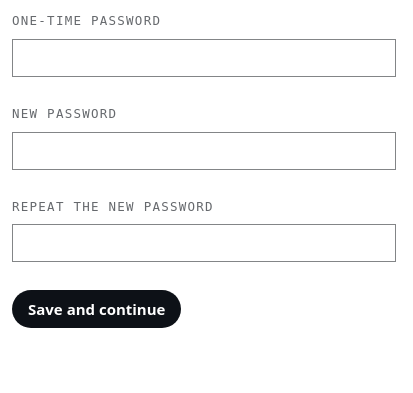
Test: ChangePasswordForm, a refused change › points every blamed field at the one message
Click the button "Save and continue": (97, 309) [12,290,182,328]
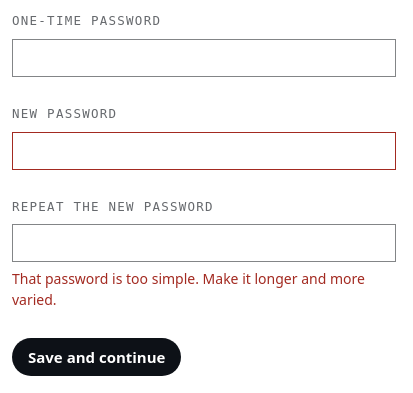
Now the message "That password is too simple. Make it longer and more varied." is shown, box [12,268,396,310]
